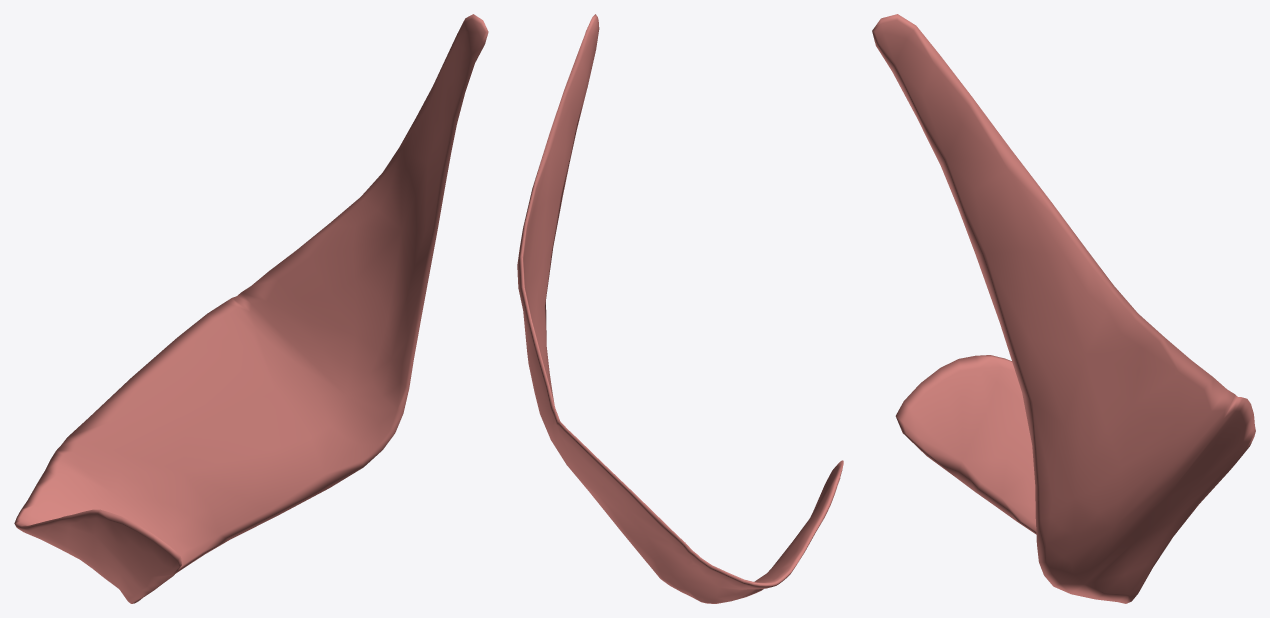
The picture shows the model from 3 angles, left to right: view 1: azimuth 30°, elevation 25°; view 2: azimuth 150°, elevation 25°; view 3: azimuth 270°, elevation 25°; orthographic projection. The views are drawn at different scales.
Parts seen in each view (by area): view 1: ZA_5b11cc88b9a467ae; view 2: ZA_5b11cc88b9a467ae; view 3: ZA_5b11cc88b9a467ae.
Boxes of the visible parts, <box> form: ZA_5b11cc88b9a467ae: <box>14,14,488,603</box>; ZA_5b11cc88b9a467ae: <box>517,14,843,603</box>; ZA_5b11cc88b9a467ae: <box>872,14,1255,603</box>.
Bounding box in the file's own units: 0.0268 × 0.0418 × 0.0202.
